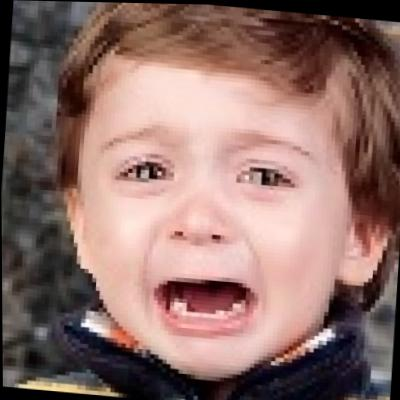sad: (57, 48, 345, 376)
